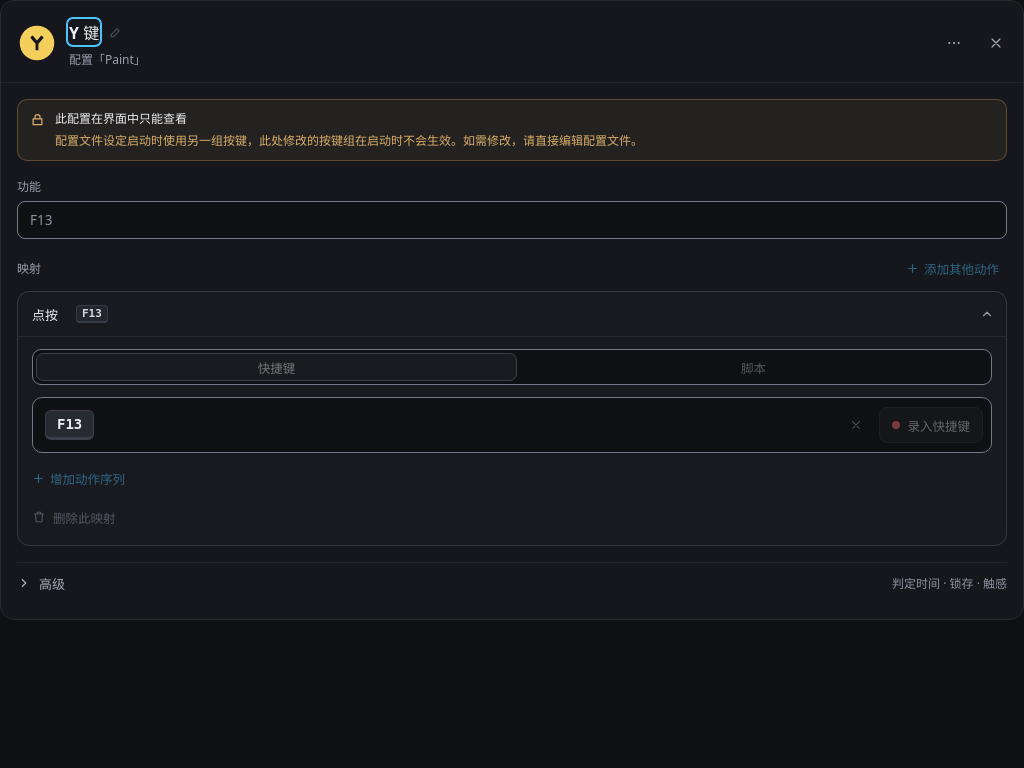
Scenario: makes the drawer read-only when the profile starts in another key group
The image size is (1024, 768).
Expected: the message with test id "drawer-read-only" shows "此配置在界面中只能查看", [55,110,187,127]
Expected: the button with test id "add-gesture" is disabled, [898,255,1007,281]
Note: Cards still open and close so the settings can be read.
Click the button "点按 F13": click(92, 314) [18,292,1006,336]
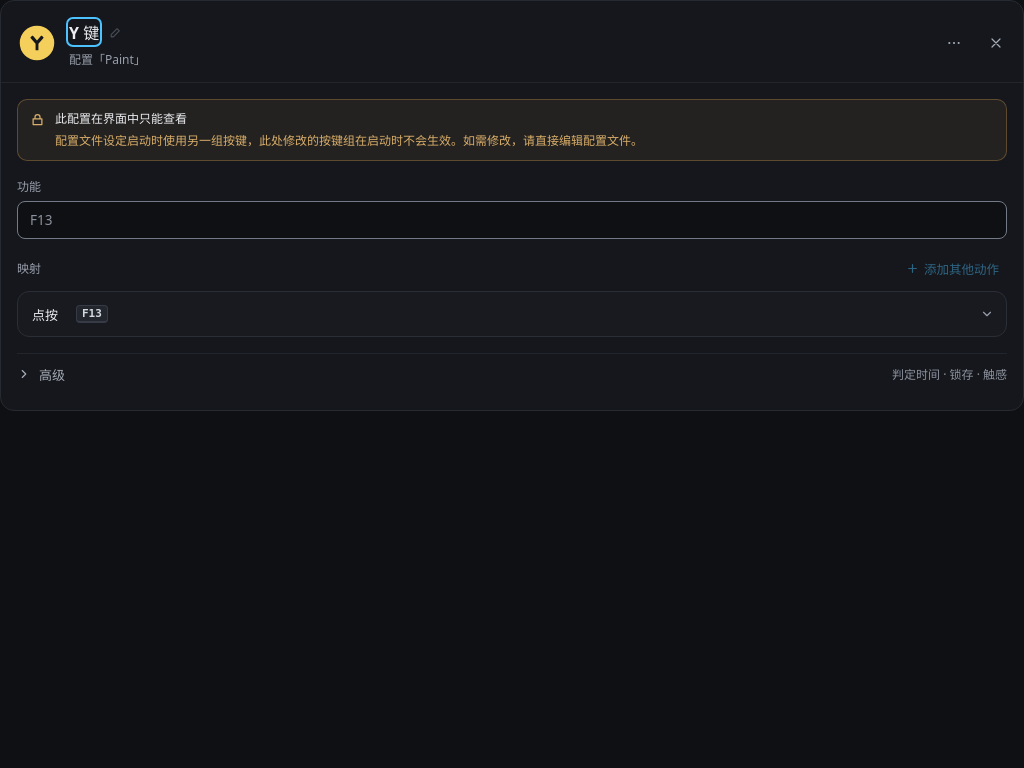
Now the radio button labelled "快捷键" is gone
